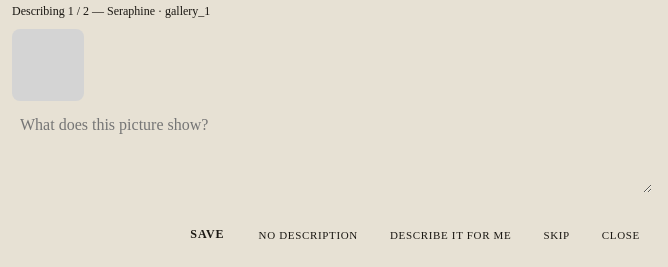
Scenario: Skip writes nothing, so the image comes back next time
This screenshot has width=668, height=267.
Click the button "Skip" at (557, 234), box [531,219,582,250]
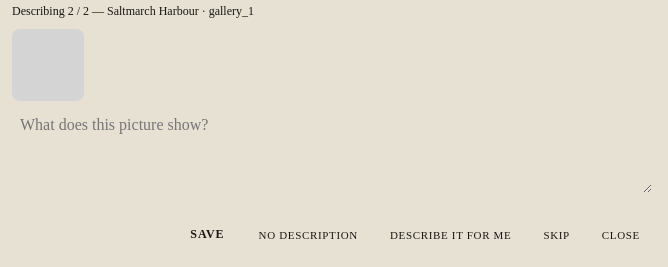
Check: the text "Describing 2 / 2 — Saltmarch Harbour · gallery_1" is shown, box [12,4,254,18]
